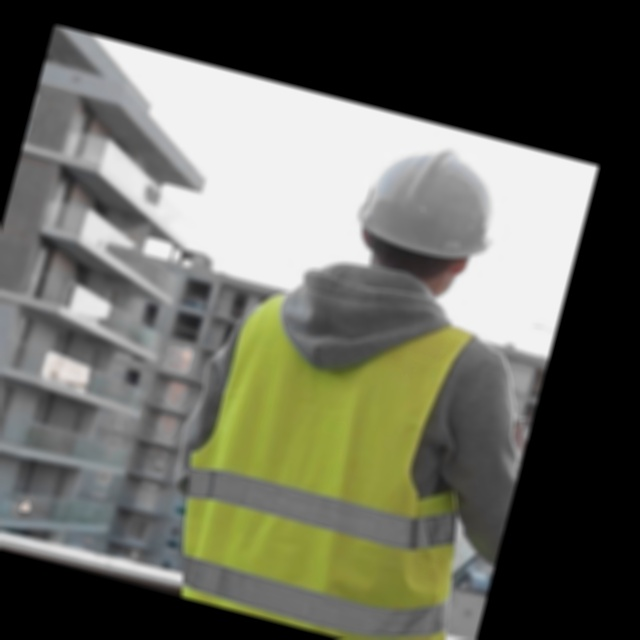Con_Casco: (341, 129, 512, 307)
Con_Chaleco: (157, 263, 528, 640)
